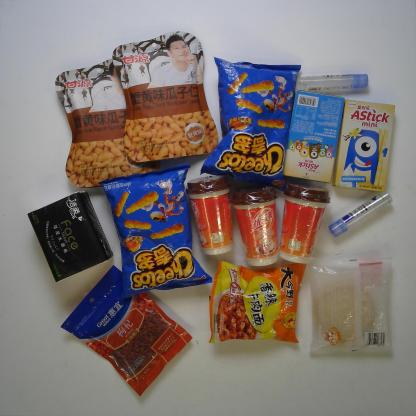Dessert: (310, 247, 394, 359), (282, 88, 346, 184), (332, 99, 396, 193)
Dried Fruit: (60, 264, 193, 397), (111, 29, 219, 164), (54, 57, 161, 189)
Instant Drink: (277, 182, 332, 265), (185, 174, 234, 257), (232, 184, 280, 268)
Instant Noodles: (208, 260, 308, 344)
Puffed Food: (98, 162, 214, 300), (198, 55, 302, 193)
Stationery: (328, 191, 393, 238), (300, 73, 370, 92)
Tissue: (27, 189, 115, 284)
